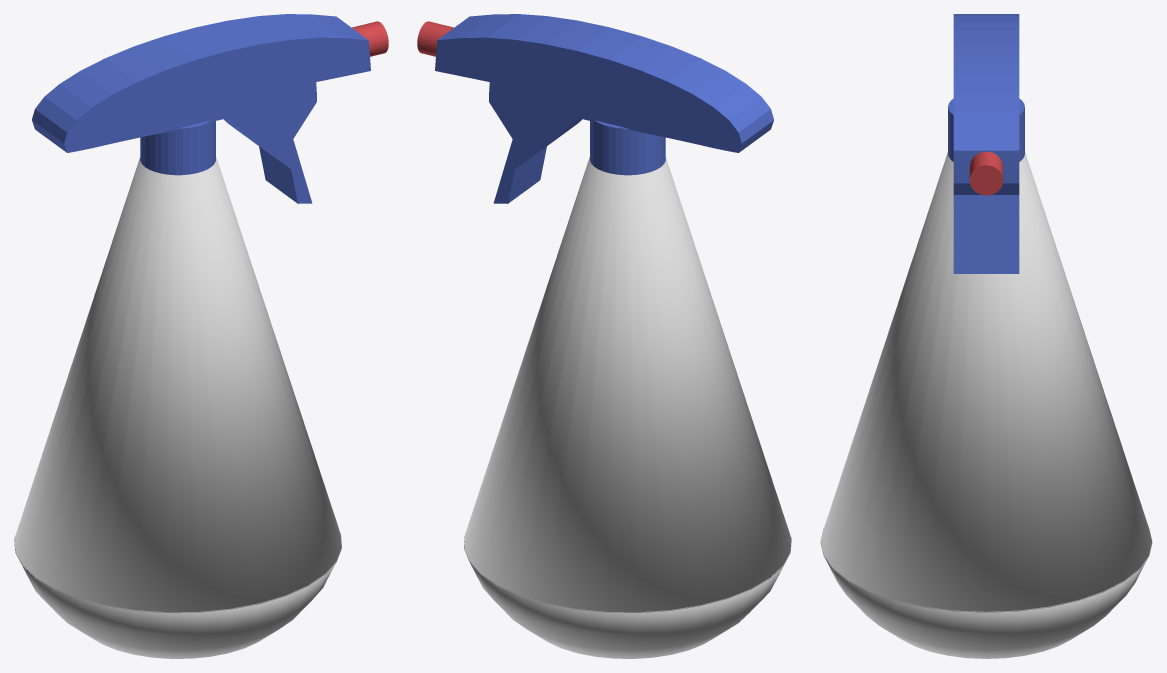
Rendered from spray bottle.fbx.
3 views of the same model, side by side, from view 1: azimuth 30°, elevation 25°; view 2: azimuth 150°, elevation 25°; view 3: azimuth 270°, elevation 25° (orthographic).
Visible parts, largest first — view 1: Sphere; view 2: Sphere; view 3: Sphere.
Boxes of the visible parts, x1,y1,x2,y2 form: Sphere: (14, 14, 388, 658); Sphere: (417, 14, 791, 658); Sphere: (820, 14, 1152, 658).
Size of the model in its own units: 240 by 379 by 198.
